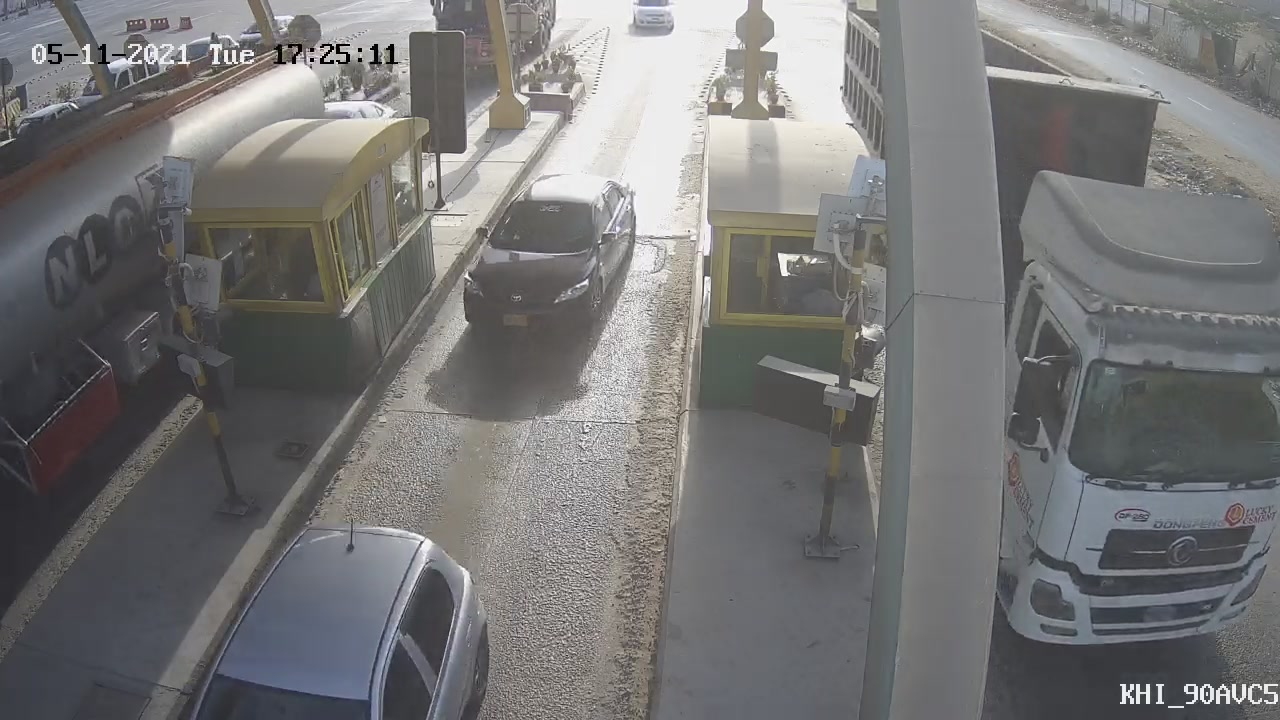F1: (441, 147, 655, 364)
